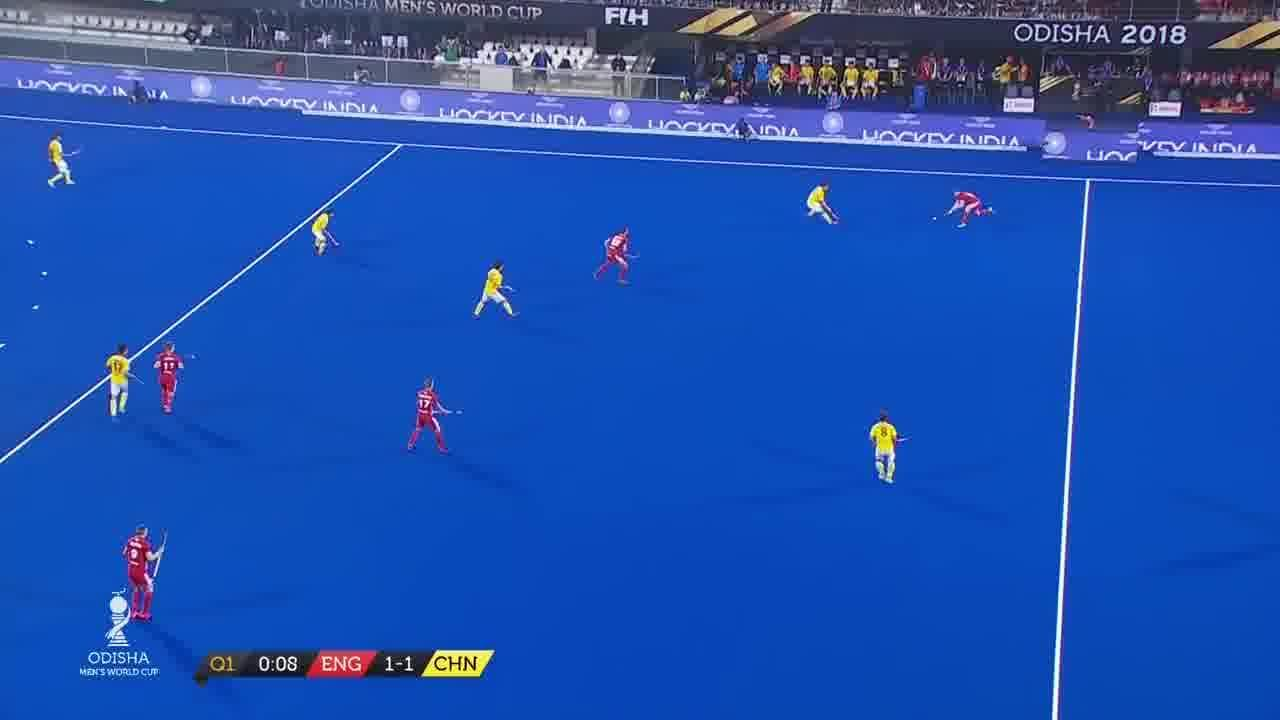ball: (929, 212, 940, 224)
